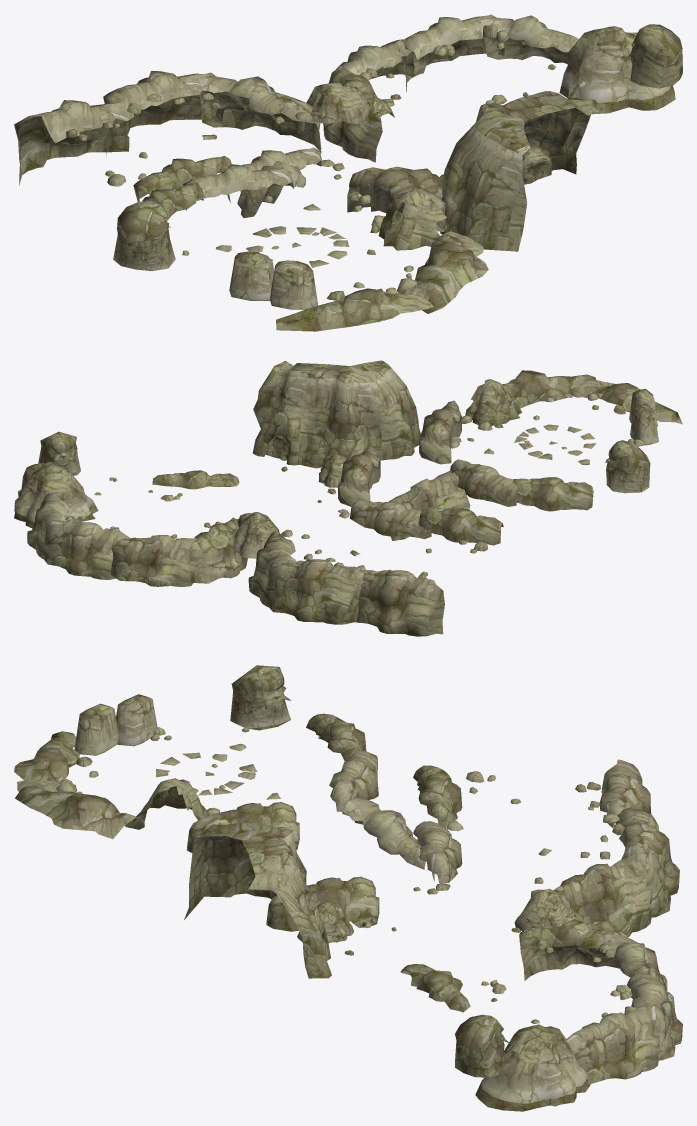
File: zhsly_rock.FBX
3 views of the same model, one above another, from view 1: azimuth 30°, elevation 25°; view 2: azimuth 150°, elevation 25°; view 3: azimuth 270°, elevation 25° (orthographic). The views are drawn at different scales.
Visible parts, largest first — view 1: zhsly_rock; view 2: zhsly_rock; view 3: zhsly_rock.
Part boxes in pixels (x1=…): zhsly_rock: x1=14, y1=14, x2=682, y2=331; zhsly_rock: x1=14, y1=360, x2=682, y2=636; zhsly_rock: x1=14, y1=665, x2=682, y2=1111.
Bounding box in the file's own units: 5995 × 1267 × 5214.
